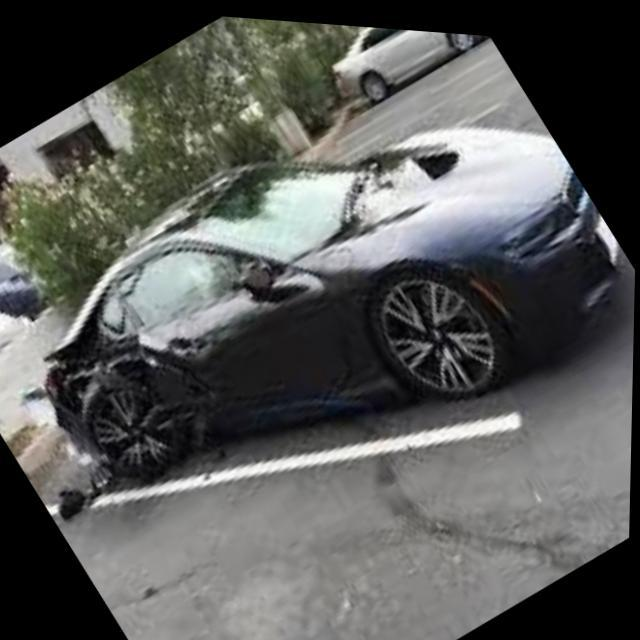no part: (38, 282, 229, 457)
